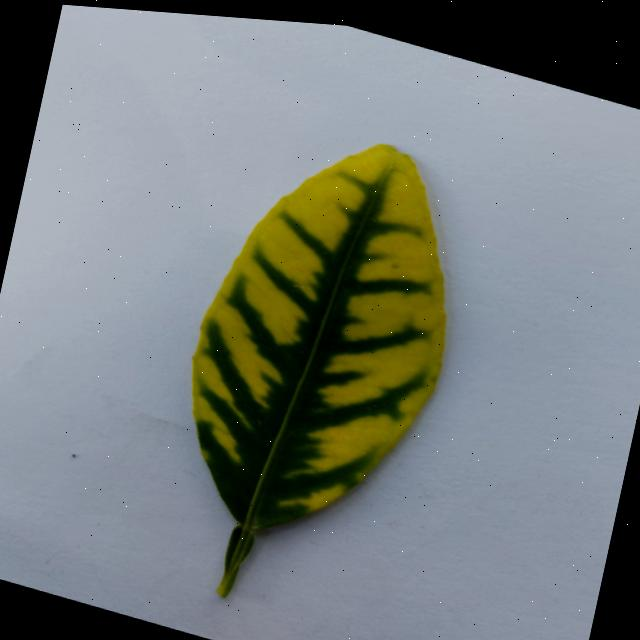greening: (191, 143, 444, 594)
